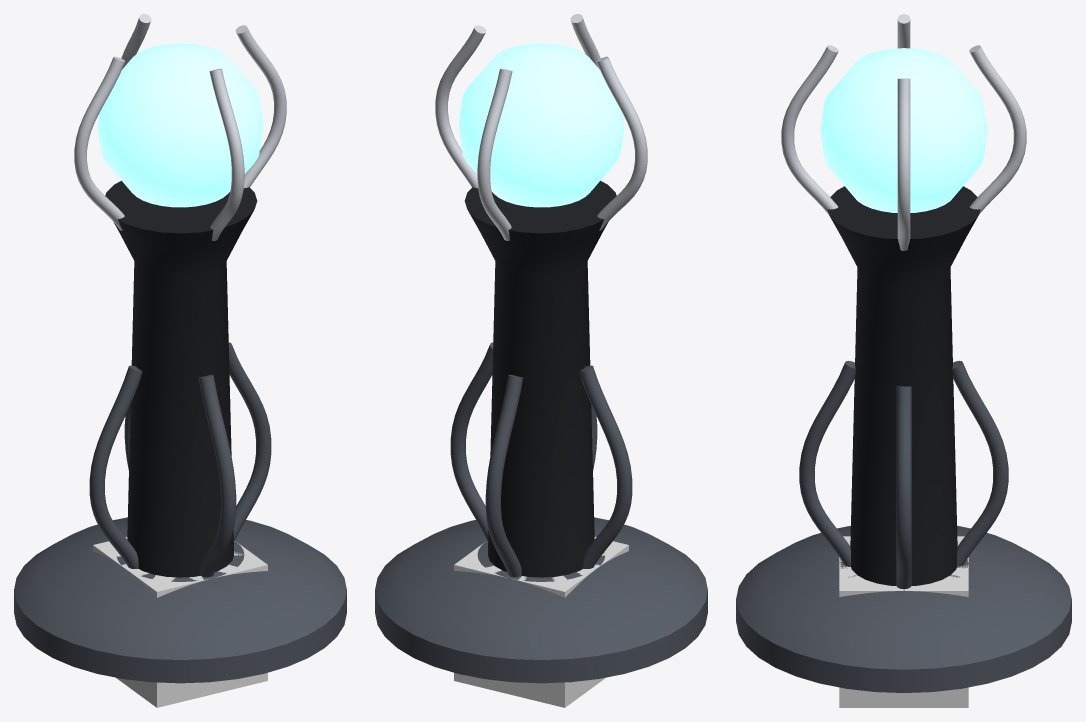
File: ForceDome.fbx
3 views of the same model, side by side, from view 1: azimuth 30°, elevation 25°; view 2: azimuth 150°, elevation 25°; view 3: azimuth 270°, elevation 25° (orthographic).
Visible parts, largest first — view 1: Body__MetalDark, Body__Black, Orb__NeonCyan, Body__Chrome, Origin__Pivot; view 2: Body__MetalDark, Body__Black, Orb__NeonCyan, Body__Chrome, Origin__Pivot; view 3: Body__MetalDark, Body__Black, Orb__NeonCyan, Body__Chrome, Origin__Pivot.
Part boxes in pixels (<box>): Body__MetalDark: <box>14,342,346,683</box>; Body__Black: <box>105,180,257,577</box>; Orb__NeonCyan: <box>97,43,263,207</box>; Body__Chrome: <box>74,14,286,240</box>; Origin__Pivot: <box>93,537,267,707</box>; Body__MetalDark: <box>375,342,707,683</box>; Body__Black: <box>464,180,616,577</box>; Orb__NeonCyan: <box>458,43,624,207</box>; Body__Chrome: <box>435,14,647,240</box>; Origin__Pivot: <box>454,537,628,707</box>; Body__MetalDark: <box>736,360,1071,692</box>; Body__Black: <box>827,186,980,585</box>; Orb__NeonCyan: <box>820,48,987,212</box>; Body__Chrome: <box>781,14,1026,250</box>; Origin__Pivot: <box>839,536,968,707</box>.
Bounding box in the file's own units: 2.6 × 5.42 × 2.6.
